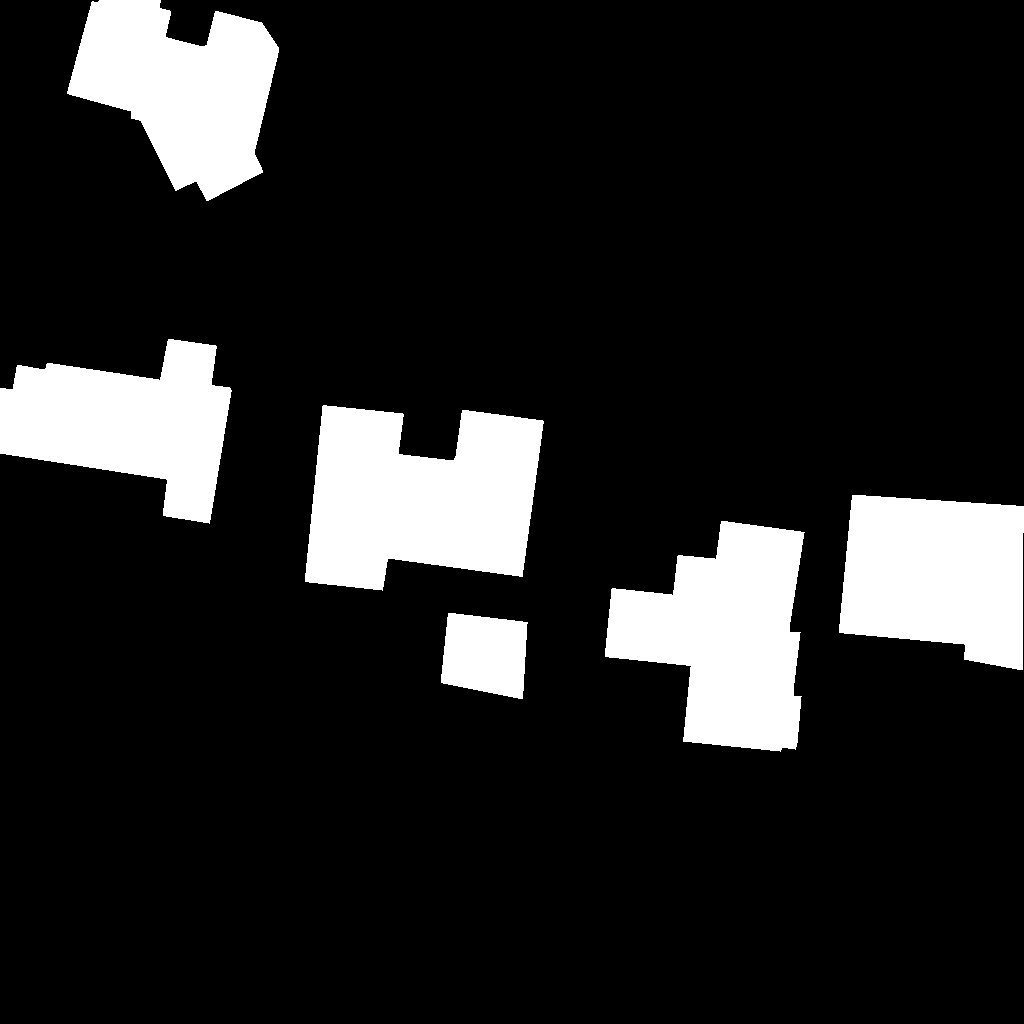building: (605, 521, 805, 752), (305, 405, 545, 591), (67, 0, 281, 202), (0, 339, 232, 524), (839, 495, 1024, 671), (441, 613, 528, 700)
